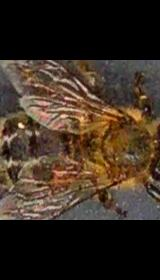varroa_mite: (49, 158, 76, 198)
